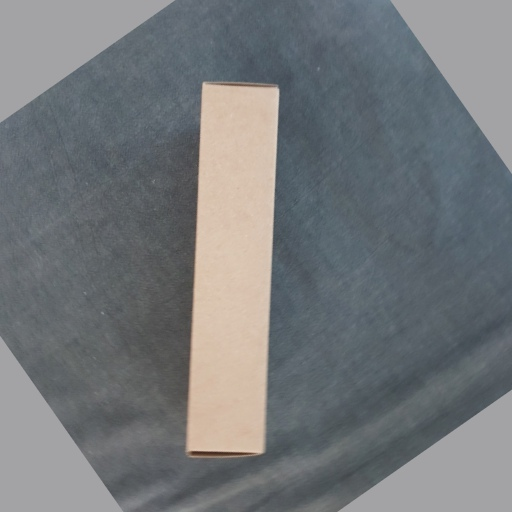Paper_0: (182, 73, 284, 467)
